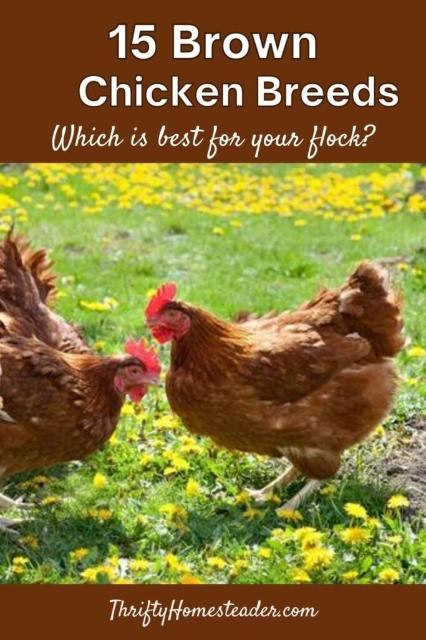Chicken: (145, 261, 409, 507), (5, 223, 164, 487)
